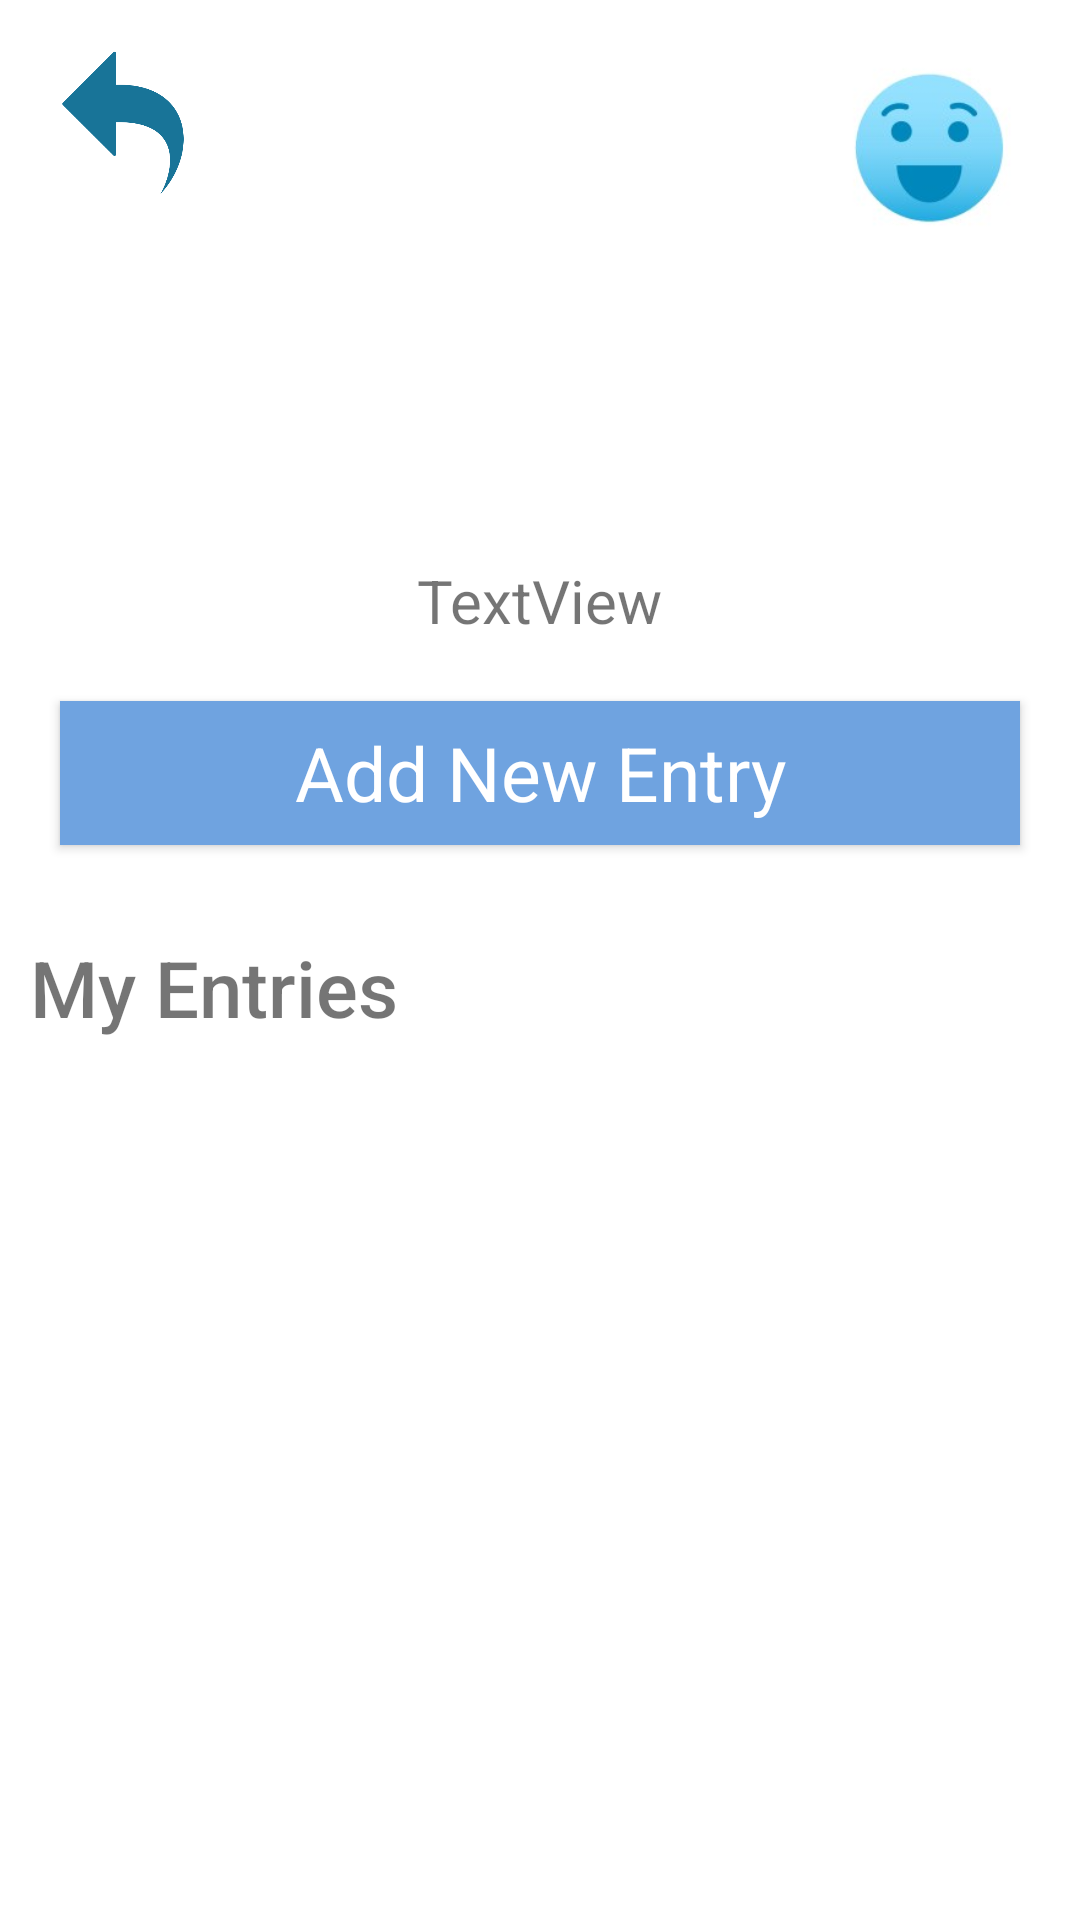

Point at icon controls on the screen. Image size 1080px×1920px, points as [x,y].
Back: [123,123]
great: [929,148]
